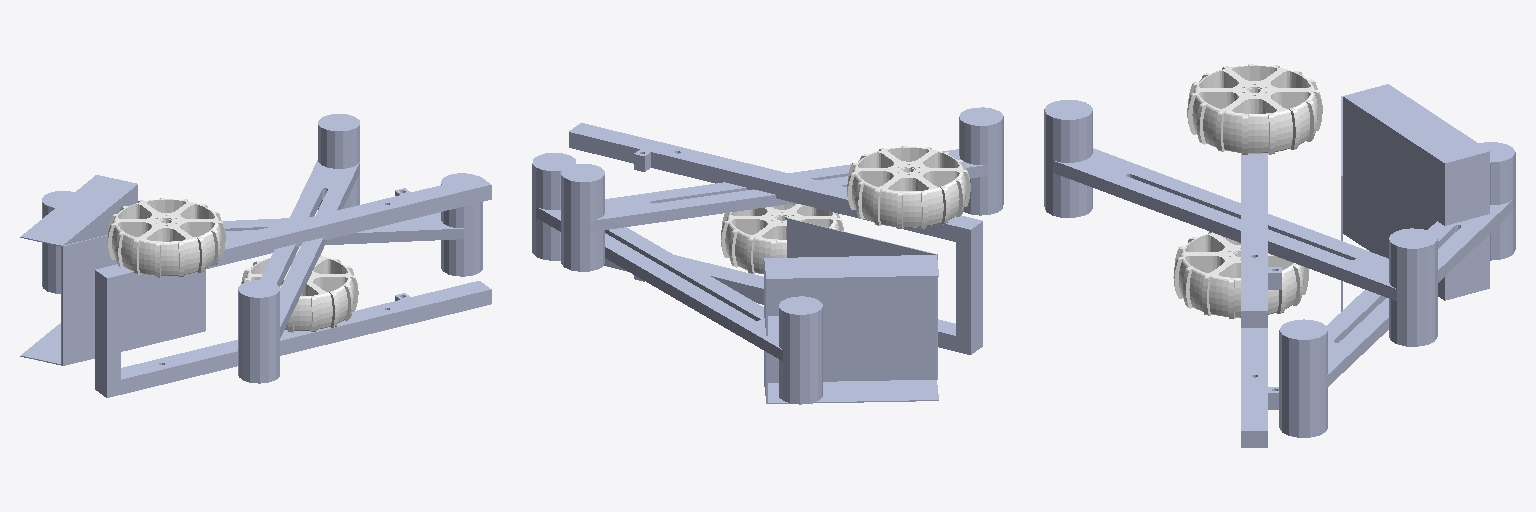
URDF robot description (FullMech_Rep):
<?xml version="1.0" encoding="utf-8"?>
<!-- This URDF was automatically created by SolidWorks to URDF Exporter! Originally created by [author] ([email redacted]) 
     Commit Version: 1.5.1-0-g916b5db  Build Version: 1.5.7152.31018
     For more information, please see http://wiki.ros.org/sw_urdf_exporter -->
<robot
  name="FullMech_Rep">
  <link
    name="drivetrain">
    <inertial>
      <origin
        xyz="0.427967702655067 0.115370408915359 0"
        rpy="0 0 0" />
      <mass
        value="3.77582130485992" />
      <inertia
        ixx="0.0534389873542028"
        ixy="-0.000464379665206139"
        ixz="8.4221937510363E-17"
        iyy="0.373546703309241"
        iyz="1.93690608670778E-18"
        izz="0.321833554389598" />
    </inertial>
    <visual>
      <origin
        xyz="0 0 0"
        rpy="0 0 0" />
      <geometry>
        <mesh
          filename="package://FullMech_Rep/meshes/drivetrain.STL" />
      </geometry>
      <material
        name="">
        <color
          rgba="0.792156862745098 0.819607843137255 0.933333333333333 1" />
      </material>
    </visual>
    <collision>
      <origin
        xyz="0 0 0"
        rpy="0 0 0" />
      <geometry>
        <mesh
          filename="package://FullMech_Rep/meshes/drivetrain.STL" />
      </geometry>
    </collision>
  </link>
  <link
    name="wheel1">
    <inertial>
      <origin
        xyz="-0.319999999965415 0.0253999997582183 0.186228402082417"
        rpy="0 0 0" />
      <mass
        value="1.22527899288124" />
      <inertia
        ixx="0.00598133533492436"
        ixy="-1.45951860387741E-09"
        ixz="8.92217485344828E-12"
        iyy="0.00598133741908379"
        iyz="-1.25414778505542E-11"
        izz="0.0109596153406548" />
    </inertial>
    <visual>
      <origin
        xyz="0 0 0"
        rpy="0 0 0" />
      <geometry>
        <mesh
          filename="package://FullMech_Rep/meshes/wheel1.STL" />
      </geometry>
      <material
        name="">
        <color
          rgba="1 1 1 1" />
      </material>
    </visual>
    <collision>
      <origin
        xyz="0 0 0"
        rpy="0 0 0" />
      <geometry>
        <mesh
          filename="package://FullMech_Rep/meshes/wheel1.STL" />
      </geometry>
    </collision>
  </link>
  <joint
    name="axle1"
    type="continuous">
    <origin
      xyz="0.16 0.115 0.19"
      rpy="0 0 0" />
    <parent
      link="drivetrain" />
    <child
      link="wheel1" />
    <axis
      xyz="0 0 1" />
  </joint>
  <link
    name="wheel2">
    <inertial>
      <origin
        xyz="-0.320000000029542 0.0254000002309468 -0.186228402082418"
        rpy="0 0 0" />
      <mass
        value="1.22527899288124" />
      <inertia
        ixx="0.00598133559564891"
        ixy="-8.33820335181087E-10"
        ixz="-3.93790599274392E-10"
        iyy="0.00598133491542502"
        iyz="-6.25138566540592E-10"
        izz="0.0109596137019381" />
    </inertial>
    <visual>
      <origin
        xyz="0 0 0"
        rpy="0 0 0" />
      <geometry>
        <mesh
          filename="package://FullMech_Rep/meshes/wheel2.STL" />
      </geometry>
      <material
        name="">
        <color
          rgba="1 1 1 1" />
      </material>
    </visual>
    <collision>
      <origin
        xyz="0 0 0"
        rpy="0 0 0" />
      <geometry>
        <mesh
          filename="package://FullMech_Rep/meshes/wheel2.STL" />
      </geometry>
    </collision>
  </link>
  <joint
    name="axle2"
    type="continuous">
    <origin
      xyz="0.47 0.0896 0"
      rpy="0 0 0" />
    <parent
      link="drivetrain" />
    <child
      link="wheel2" />
    <axis
      xyz="0 0 1" />
  </joint>
  <link
    name="wheel3">
    <inertial>
      <origin
        xyz="0.230000000246562 0.0253999997923425 -0.186228402082417"
        rpy="0 0 0" />
      <mass
        value="1.22527899288124" />
      <inertia
        ixx="0.00598133754268485"
        ixy="-1.36278916589831E-09"
        ixz="-1.81170744511866E-11"
        iyy="0.00598133521142073"
        iyz="2.24734516619137E-11"
        izz="0.0109596153407522" />
    </inertial>
    <visual>
      <origin
        xyz="0 0 0"
        rpy="0 0 0" />
      <geometry>
        <mesh
          filename="package://FullMech_Rep/meshes/wheel3.STL" />
      </geometry>
      <material
        name="">
        <color
          rgba="1 1 1 1" />
      </material>
    </visual>
    <collision>
      <origin
        xyz="0 0 0"
        rpy="0 0 0" />
      <geometry>
        <mesh
          filename="package://FullMech_Rep/meshes/wheel3.STL" />
      </geometry>
    </collision>
  </link>
  <joint
    name="axle3"
    type="continuous">
    <origin
      xyz="0.47 0.0896 0"
      rpy="0 0 0" />
    <parent
      link="drivetrain" />
    <child
      link="wheel3" />
    <axis
      xyz="0 0 1" />
  </joint>
  <link
    name="wheel4">
    <inertial>
      <origin
        xyz="0.230000000034584 0.0253999997582191 0.186228402082418"
        rpy="0 0 0" />
      <mass
        value="1.22527899288124" />
      <inertia
        ixx="0.00598133533492436"
        ixy="-1.45951859994674E-09"
        ixz="8.92217439446231E-12"
        iyy="0.00598133741908381"
        iyz="-1.25414773881934E-11"
        izz="0.0109596153406548" />
    </inertial>
    <visual>
      <origin
        xyz="0 0 0"
        rpy="0 0 0" />
      <geometry>
        <mesh
          filename="package://FullMech_Rep/meshes/wheel4.STL" />
      </geometry>
      <material
        name="">
        <color
          rgba="1 1 1 1" />
      </material>
    </visual>
    <collision>
      <origin
        xyz="0 0 0"
        rpy="0 0 0" />
      <geometry>
        <mesh
          filename="package://FullMech_Rep/meshes/wheel4.STL" />
      </geometry>
    </collision>
  </link>
  <joint
    name="axle4"
    type="continuous">
    <origin
      xyz="0.47 0.0896 0"
      rpy="0 0 0" />
    <parent
      link="drivetrain" />
    <child
      link="wheel4" />
    <axis
      xyz="0 0 1" />
  </joint>
  <link
    name="storage">
    <inertial>
      <origin
        xyz="0.175 0.276401777374457 2.25713896662771E-16"
        rpy="0 0 0" />
      <mass
        value="0.248919999999999" />
      <inertia
        ixx="0.00162641116102266"
        ixy="7.96540095890137E-22"
        ixz="1.98679070880409E-19"
        iyy="0.00416733566666664"
        iyz="-5.53862670426238E-23"
        izz="0.00254119216102265" />
    </inertial>
    <visual>
      <origin
        xyz="0 0 0"
        rpy="0 0 0" />
      <geometry>
        <mesh
          filename="package://FullMech_Rep/meshes/storage.STL" />
      </geometry>
      <material
        name="">
        <color
          rgba="0.792156862745098 0.819607843137255 0.933333333333333 1" />
      </material>
    </visual>
    <collision>
      <origin
        xyz="0 0 0"
        rpy="0 0 0" />
      <geometry>
        <mesh
          filename="package://FullMech_Rep/meshes/storage.STL" />
      </geometry>
    </collision>
  </link>
  <joint
    name="scissor"
    type="prismatic">
    <origin
      xyz="0 0 0"
      rpy="0 0 0" />
    <parent
      link="drivetrain" />
    <child
      link="storage" />
    <axis
      xyz="0 1 0" />
    <limit
      lower="0"
      upper="0.5"
      effort="5"
      velocity="0.25" />
  </joint>
  <link
    name="dispense">
    <inertial>
      <origin
        xyz="-0.316278340591933 0.317249948403711 -1.51759518433828E-16"
        rpy="0 0 0" />
      <mass
        value="0.490259886127997" />
      <inertia
        ixx="0.0077834363669299"
        ixy="-0.00266036642706342"
        ixz="9.31487295243375E-18"
        iyy="0.00957311492456408"
        iyz="1.16434978510516E-17"
        izz="0.00657647247964345" />
    </inertial>
    <visual>
      <origin
        xyz="0 0 0"
        rpy="0 0 0" />
      <geometry>
        <mesh
          filename="package://FullMech_Rep/meshes/dispense.STL" />
      </geometry>
      <material
        name="">
        <color
          rgba="0.792156862745098 0.819607843137255 0.933333333333333 1" />
      </material>
    </visual>
    <collision>
      <origin
        xyz="0 0 0"
        rpy="0 0 0" />
      <geometry>
        <mesh
          filename="package://FullMech_Rep/meshes/dispense.STL" />
      </geometry>
    </collision>
  </link>
  <joint
    name="dispense"
    type="revolute">
    <origin
      xyz="0.47 0.0896 0"
      rpy="0 0 0" />
    <parent
      link="storage" />
    <child
      link="dispense" />
    <axis
      xyz="0 0 -1" />
    <limit
      lower="0"
      upper="1.57"
      effort="5"
      velocity="0.25" />
  </joint>
  <link
    name="rotate_conv">
    <inertial>
      <origin
        xyz="0.267944768013426 0.133655983183746 1.2975675472875E-15"
        rpy="0 0 0" />
      <mass
        value="4.12035499957539" />
      <inertia
        ixx="0.504951827564745"
        ixy="0.155266647555281"
        ixz="-2.61309664227952E-16"
        iyy="0.0598724883705849"
        iyz="8.55503276726843E-16"
        izz="0.547695583840302" />
    </inertial>
    <visual>
      <origin
        xyz="0 0 0"
        rpy="0 0 0" />
      <geometry>
        <mesh
          filename="package://FullMech_Rep/meshes/rotate_conv.STL" />
      </geometry>
      <material
        name="">
        <color
          rgba="0.792156862745098 0.819607843137255 0.933333333333333 1" />
      </material>
    </visual>
    <collision>
      <origin
        xyz="0 0 0"
        rpy="0 0 0" />
      <geometry>
        <mesh
          filename="package://FullMech_Rep/meshes/rotate_conv.STL" />
      </geometry>
    </collision>
  </link>
  <joint
    name="rotate"
    type="revolute">
    <origin
      xyz="0.47 0.0896 0"
      rpy="0 0 0" />
    <parent
      link="drivetrain" />
    <child
      link="rotate_conv" />
    <axis
      xyz="0 0 1" />
    <limit
      lower="0.384"
      upper="1.309"
      effort="5"
      velocity="0.25" />
  </joint>
  <link
    name="translation">
    <inertial>
      <origin
        xyz="0.737944768013426 0.223255983183746 1.29675086879862E-15"
        rpy="0 0 0" />
      <mass
        value="4.12035499957539" />
      <inertia
        ixx="0.504951827564745"
        ixy="0.155266647555281"
        ixz="-2.61524946412685E-16"
        iyy="0.0598724883705849"
        iyz="8.581708096151E-16"
        izz="0.547695583840302" />
    </inertial>
    <visual>
      <origin
        xyz="0 0 0"
        rpy="0 0 0" />
      <geometry>
        <mesh
          filename="package://FullMech_Rep/meshes/translation.STL" />
      </geometry>
      <material
        name="">
        <color
          rgba="0.792156862745098 0.819607843137255 0.933333333333333 1" />
      </material>
    </visual>
    <collision>
      <origin
        xyz="0 0 0"
        rpy="0 0 0" />
      <geometry>
        <mesh
          filename="package://FullMech_Rep/meshes/translation.STL" />
      </geometry>
    </collision>
  </link>
  <joint
    name="rack"
    type="prismatic">
    <origin
      xyz="-0.47 -0.0896 0"
      rpy="0 0 0" />
    <parent
      link="rotate_conv" />
    <child
      link="translation" />
    <axis
      xyz="-0.2999 0.95397 0" />
    <limit
      lower="0"
      upper="0.5"
      effort="5"
      velocity="0.25" />
  </joint>
</robot>

--- What the picture shows (computed from the rendered views, not written in the file) ---
3 views of the same robot in one strip: view 1: azimuth 30°, elevation 25°; view 2: azimuth 150°, elevation 25°; view 3: azimuth 270°, elevation 25° (orthographic).
Model FullMech_Rep with 9 links and 8 joints (2 revolute, 4 continuous, 2 prismatic), rooted at drivetrain, posed joints at zero except 1 at the middle of their limits (rotate = 0.8465).
Visible links, largest first — view 1: drivetrain, rotate_conv, storage, wheel1, translation, dispense, wheel2; view 2: dispense, translation, rotate_conv, drivetrain, wheel1, wheel2, storage; view 3: rotate_conv, dispense, translation, wheel1, drivetrain, wheel2.
Boxes of the visible links, box(x1,y1,x2,y2) form: drivetrain: box(95, 176, 491, 397); rotate_conv: box(238, 114, 359, 383); storage: box(62, 235, 205, 365); wheel1: box(107, 198, 225, 277); translation: box(42, 173, 482, 293); dispense: box(20, 175, 137, 365); wheel2: box(241, 252, 358, 332); dispense: box(764, 255, 938, 403); translation: box(532, 153, 822, 404); rotate_conv: box(561, 107, 1003, 271); drivetrain: box(569, 123, 982, 354); wheel1: box(847, 146, 970, 228); wheel2: box(721, 203, 843, 273); storage: box(787, 218, 937, 379); rotate_conv: box(1044, 100, 1437, 346); dispense: box(1343, 84, 1489, 300); translation: box(1279, 142, 1515, 437); wheel1: box(1187, 64, 1322, 154); drivetrain: box(1241, 153, 1281, 447); wheel2: box(1173, 231, 1308, 318).
Bounding box of the posed robot: 1.03 × 0.8707 × 0.3673 m (x, y, z).
Meshes: 9 distinct files referenced, 9 mesh visuals loaded (9 binary STL).